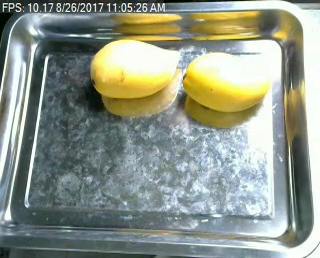Mango: (179, 47, 276, 112), (90, 37, 181, 99)
